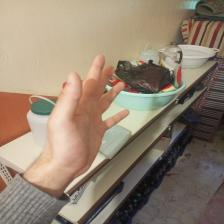five: (48, 52, 132, 185)
